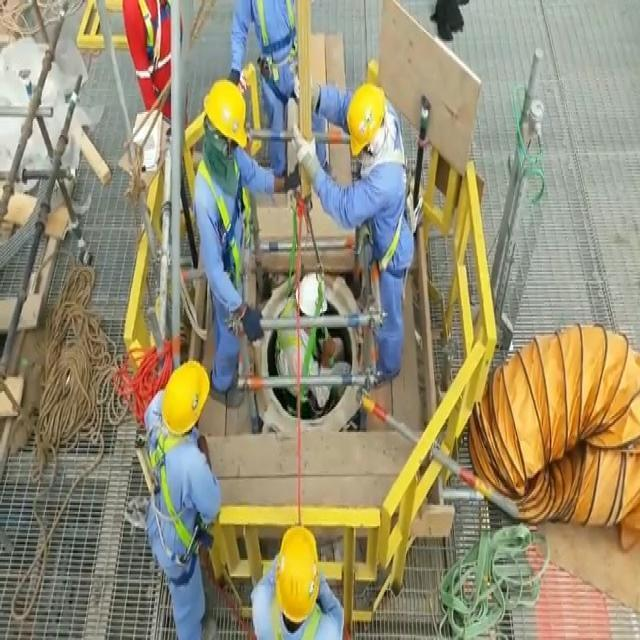Person: (312, 77, 413, 378), (139, 356, 228, 640), (188, 73, 253, 397)
